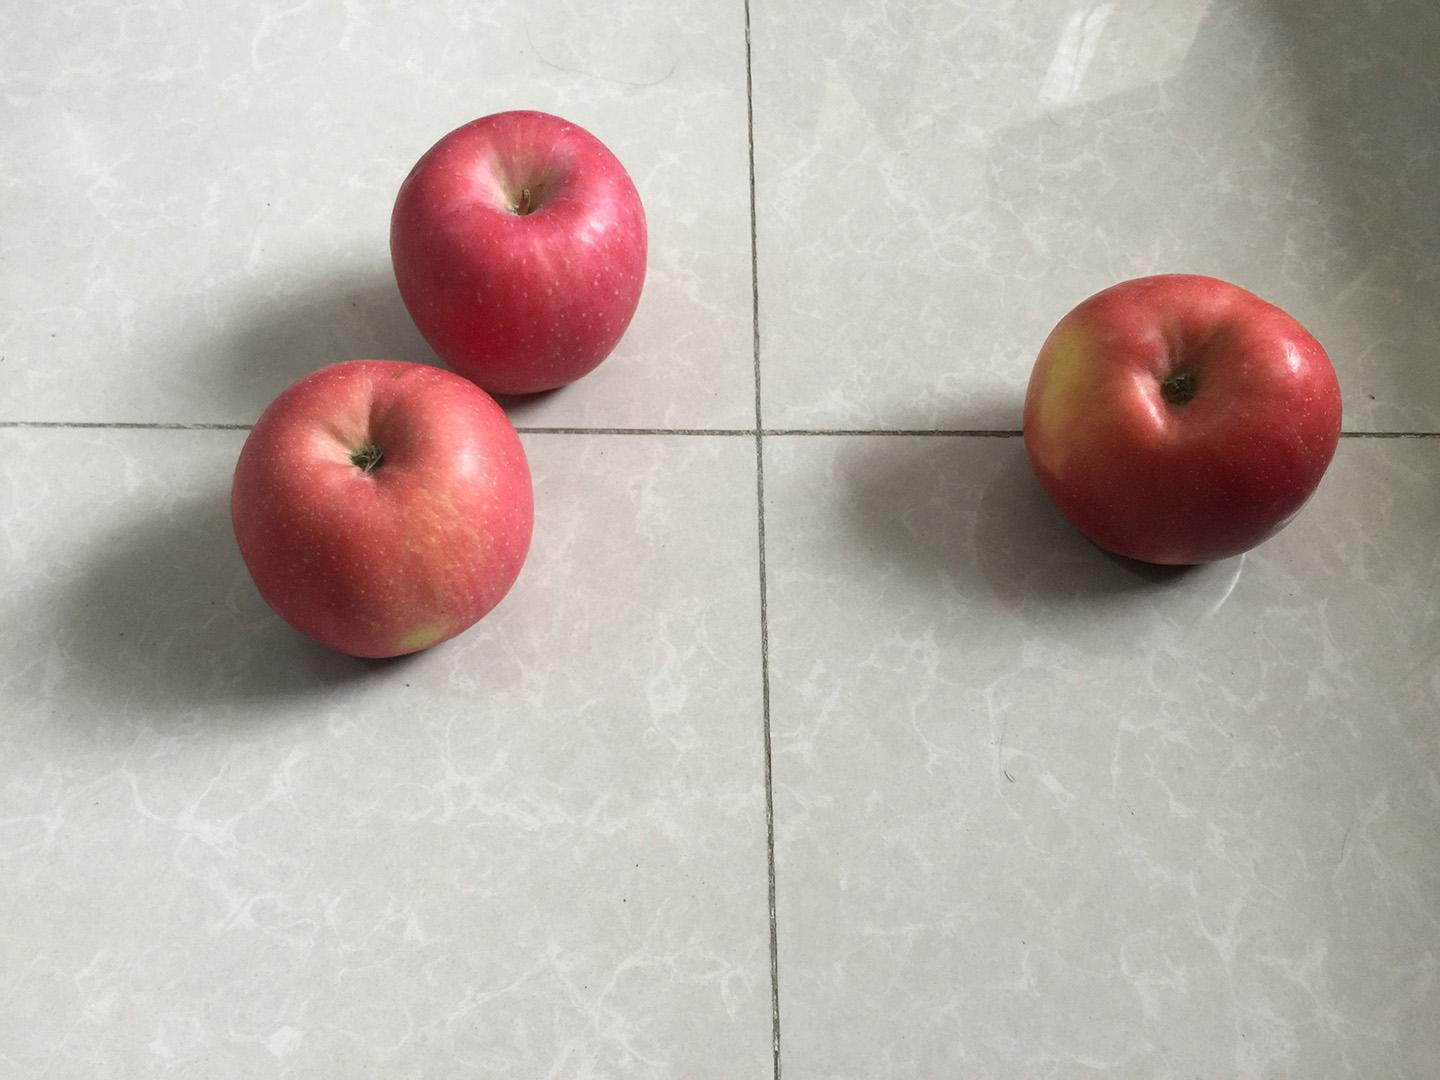apple: (1015, 267, 1346, 572), (227, 351, 541, 667), (384, 108, 657, 400)
